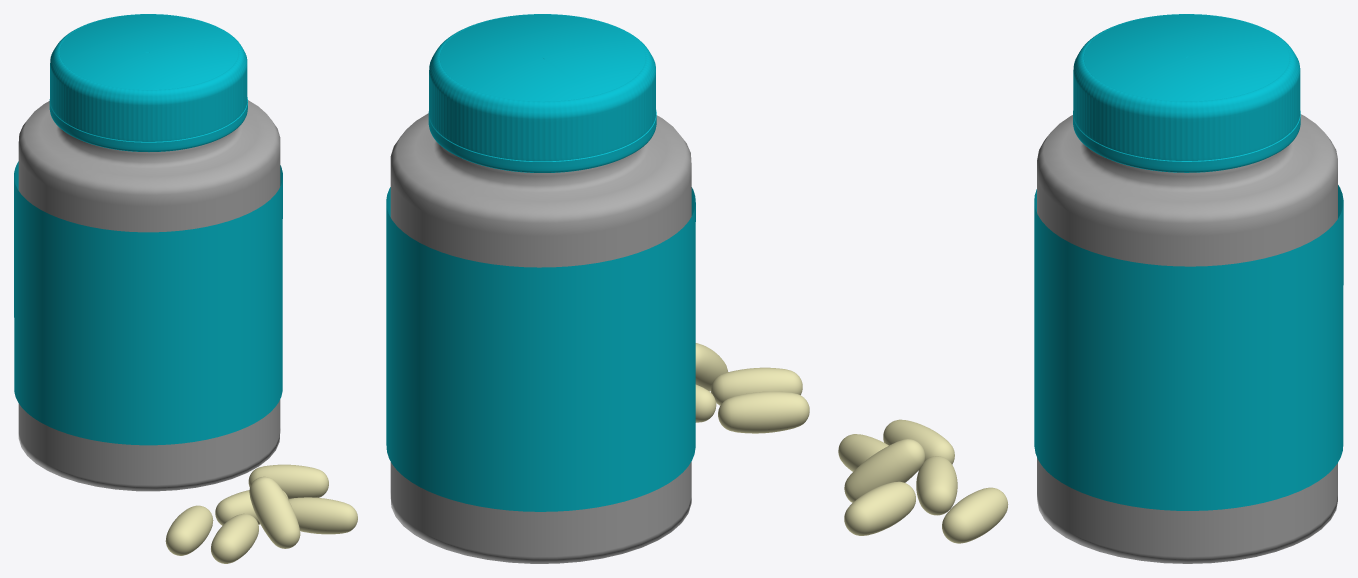
The model's file is MEDICINE.fbx.
The picture shows the model from 3 angles, left to right: view 1: azimuth 30°, elevation 25°; view 2: azimuth 150°, elevation 25°; view 3: azimuth 270°, elevation 25°; orthographic projection. The views are drawn at different scales.
Visible parts, largest first — view 1: label, pCylinder1, cup1, Capsule_4_0_88_4_152_3, Capsule_4_0_88_4_152_5, Capsule_4_0_88_4_152_6, Capsule_4_0_88_4_152_1, Capsule_4_0_88_4_152_4, Capsule_4_0_88_4_152_2; view 2: label, pCylinder1, cup1, Capsule_4_0_88_4_152_4, Capsule_4_0_88_4_152_1, Capsule_4_0_88_4_152_3, Capsule_4_0_88_4_152_2; view 3: label, pCylinder1, cup1, Capsule_4_0_88_4_152_3, Capsule_4_0_88_4_152_5, Capsule_4_0_88_4_152_6, Capsule_4_0_88_4_152_2, Capsule_4_0_88_4_152_4, Capsule_4_0_88_4_152_1.
Part boxes in pixels (x1,y1,x2,y2): label: [14, 161, 282, 445]; pCylinder1: [18, 100, 280, 491]; cup1: [49, 14, 247, 152]; Capsule_4_0_88_4_152_3: [249, 476, 300, 548]; Capsule_4_0_88_4_152_5: [288, 497, 357, 534]; Capsule_4_0_88_4_152_6: [248, 464, 328, 498]; Capsule_4_0_88_4_152_1: [211, 513, 258, 563]; Capsule_4_0_88_4_152_4: [165, 505, 213, 555]; Capsule_4_0_88_4_152_2: [215, 490, 288, 525]; label: [386, 187, 695, 511]; pCylinder1: [390, 113, 691, 563]; cup1: [428, 14, 656, 172]; Capsule_4_0_88_4_152_4: [718, 391, 809, 433]; Capsule_4_0_88_4_152_1: [711, 367, 802, 405]; Capsule_4_0_88_4_152_3: [695, 343, 727, 391]; Capsule_4_0_88_4_152_2: [695, 384, 716, 422]; label: [1034, 185, 1343, 510]; pCylinder1: [1037, 114, 1337, 563]; cup1: [1073, 14, 1300, 172]; Capsule_4_0_88_4_152_3: [844, 439, 925, 502]; Capsule_4_0_88_4_152_5: [844, 481, 915, 535]; Capsule_4_0_88_4_152_6: [942, 487, 1008, 543]; Capsule_4_0_88_4_152_2: [916, 456, 957, 515]; Capsule_4_0_88_4_152_4: [883, 419, 954, 464]; Capsule_4_0_88_4_152_1: [838, 434, 888, 471].
Bounding box in the file's own units: 172 × 275 × 280.
